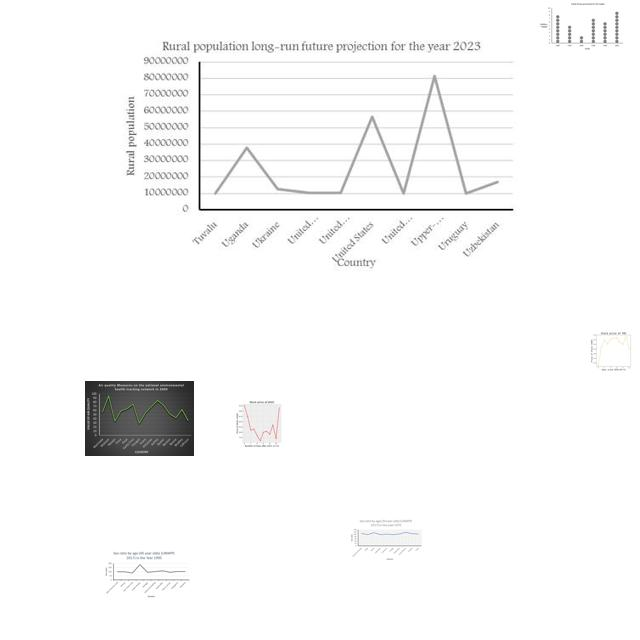Graph: (123, 33, 520, 271), (85, 381, 194, 456), (537, 1, 625, 52), (103, 550, 190, 599), (228, 398, 294, 448), (349, 518, 423, 561), (586, 330, 640, 371)
